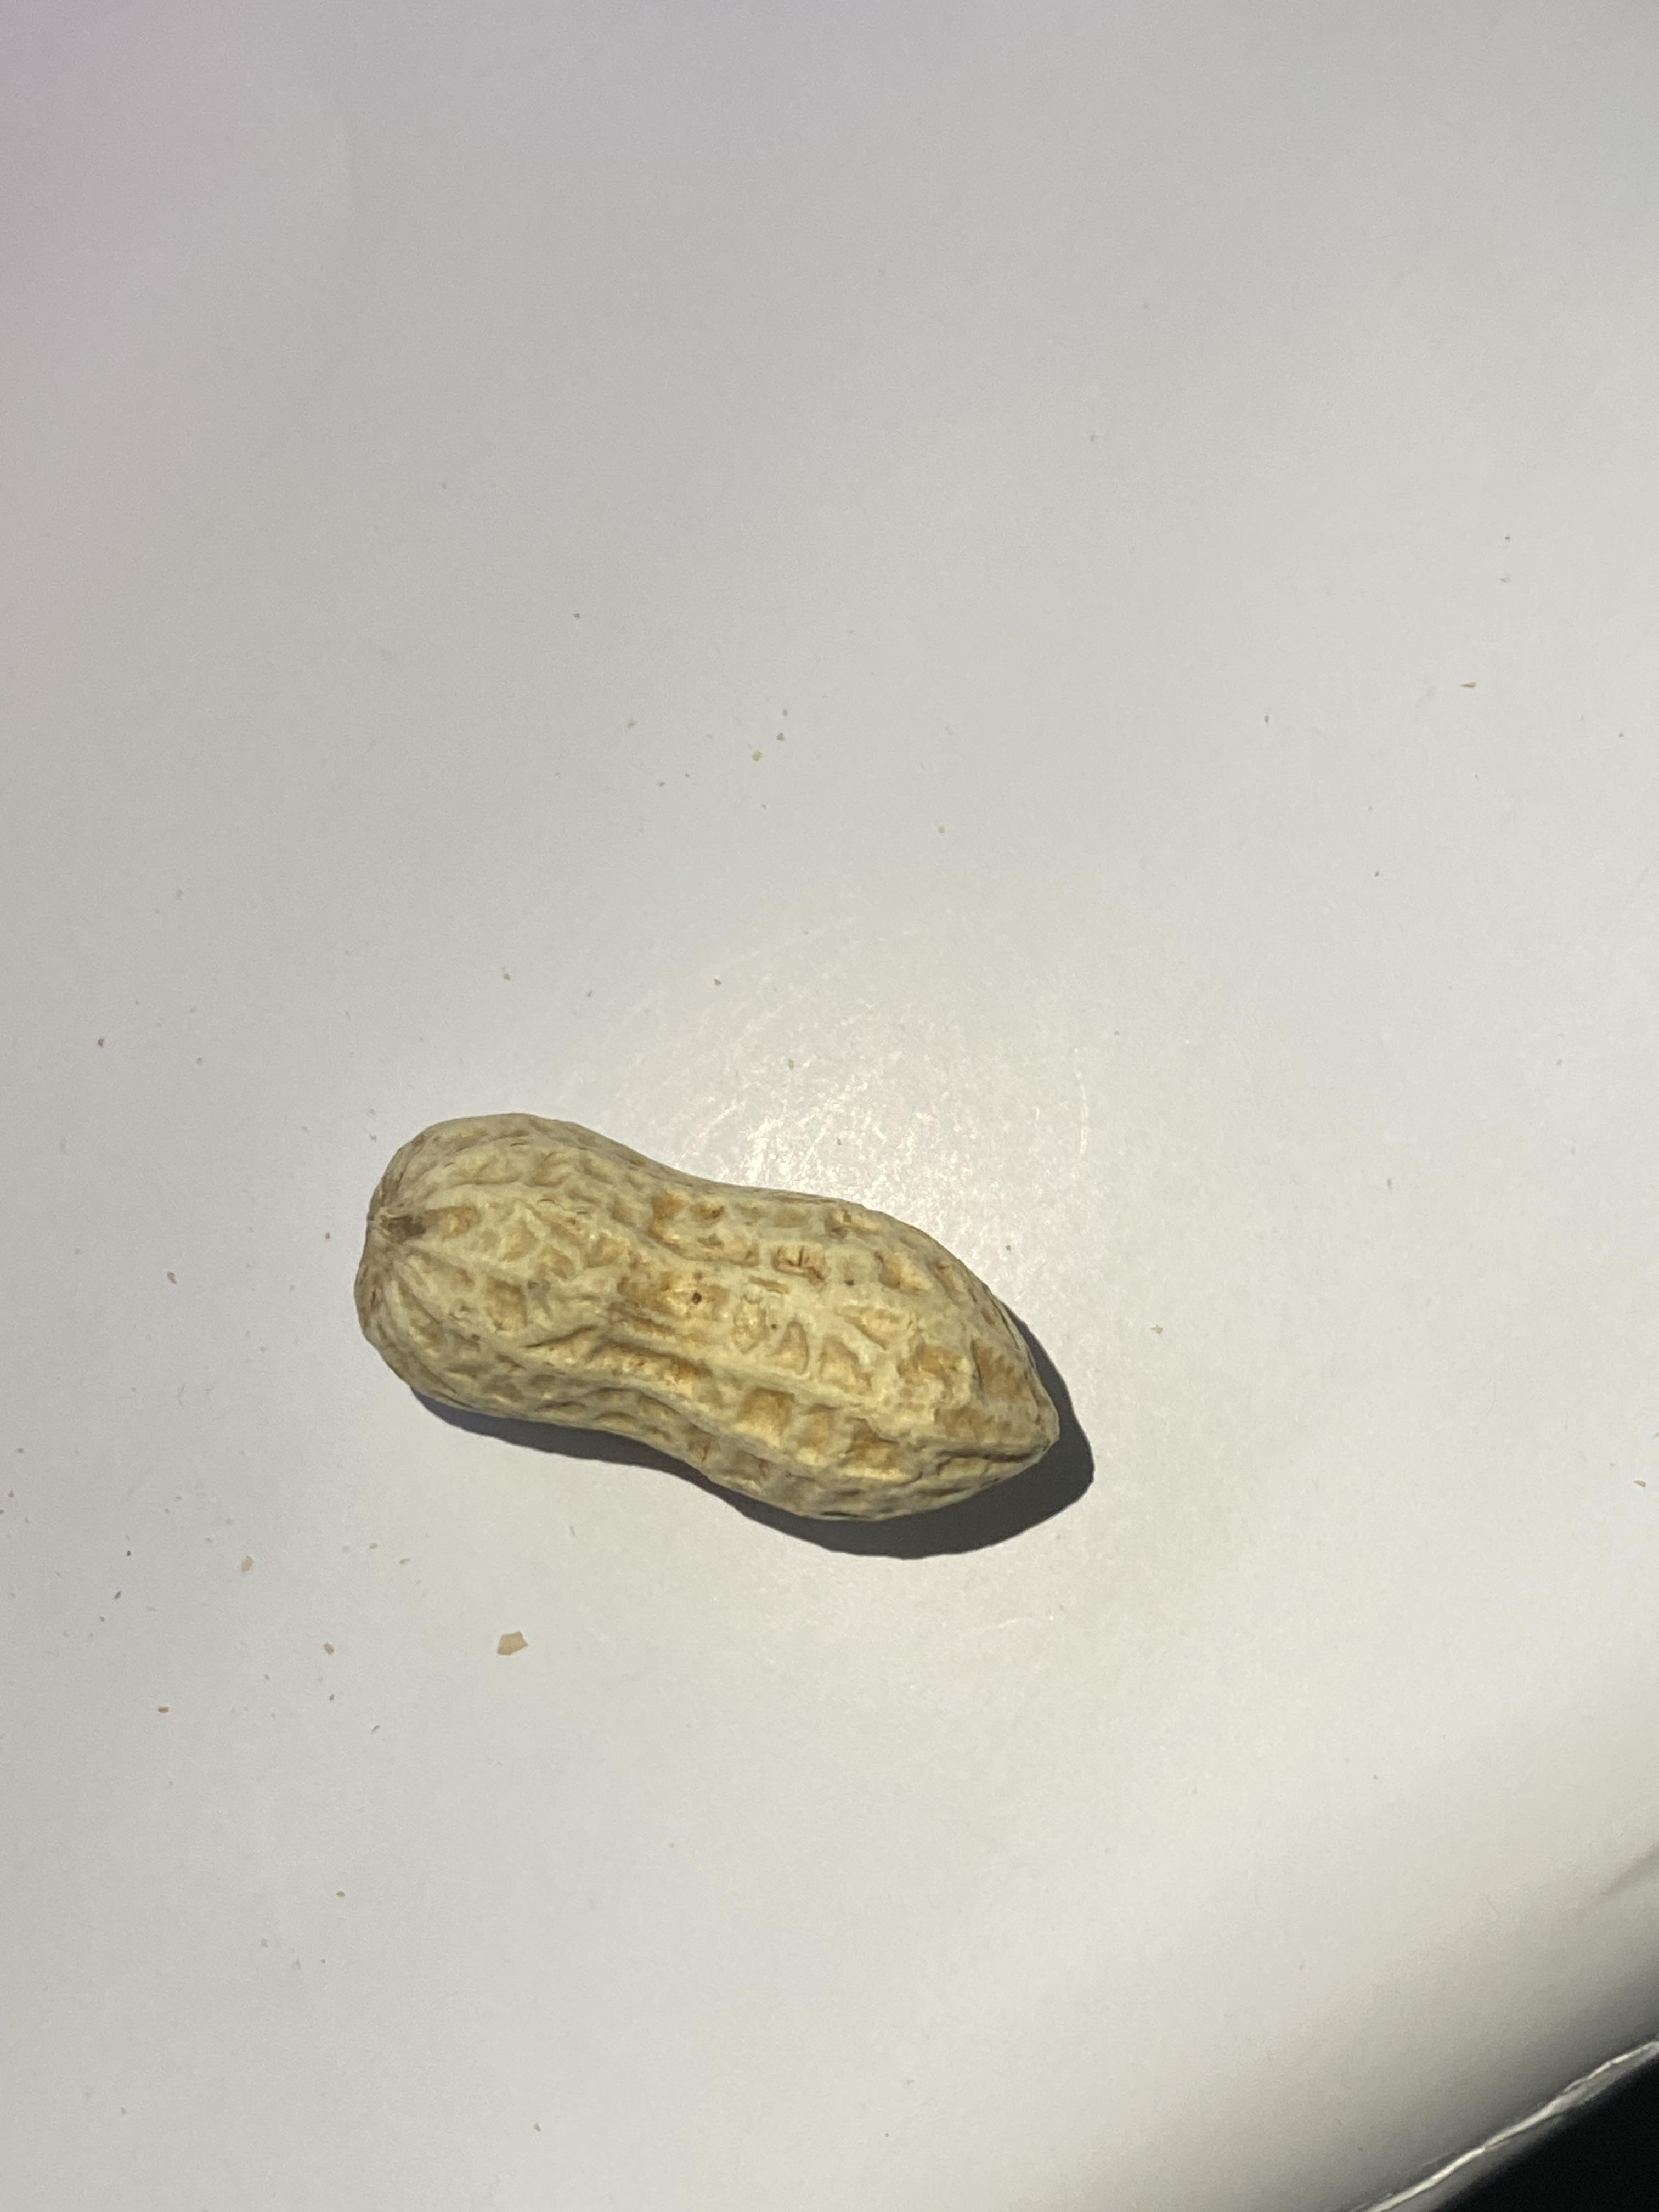kacang2: (307, 1116, 1086, 1534)
